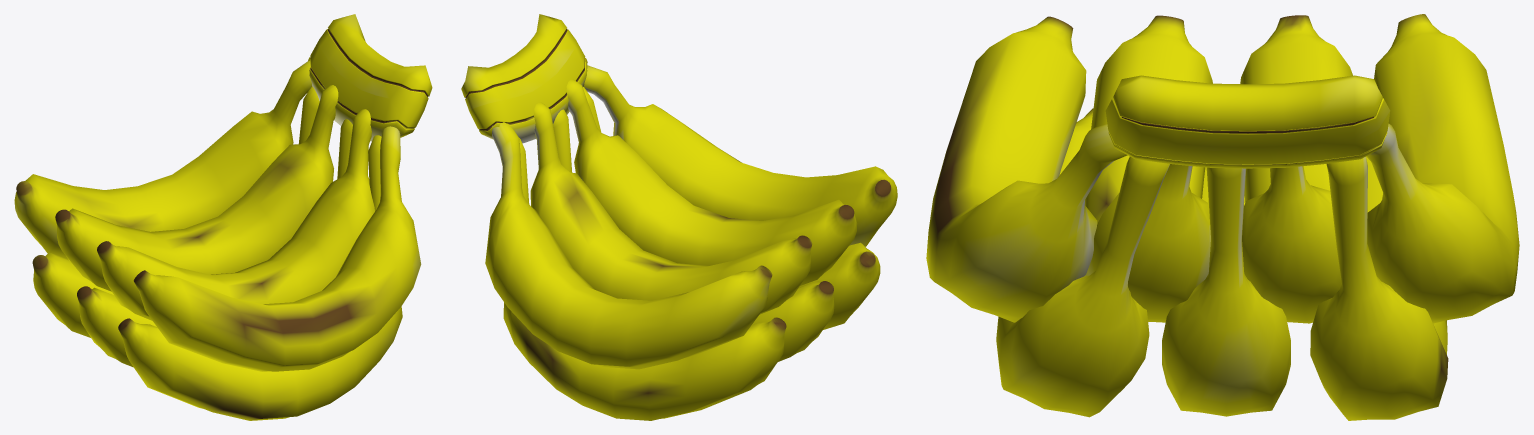
Rendered from Fruit-Banana-bunch.fbx.
The picture shows the model from 3 angles, left to right: view 1: azimuth 30°, elevation 25°; view 2: azimuth 150°, elevation 25°; view 3: azimuth 270°, elevation 25°; orthographic projection. The views are drawn at different scales.
Visible parts, largest first — view 1: Fruit-Banana-bunch; view 2: Fruit-Banana-bunch; view 3: Fruit-Banana-bunch.
Boxes of the visible parts, box(x1,y1,x2,y2) form: Fruit-Banana-bunch: box(14, 14, 432, 420); Fruit-Banana-bunch: box(461, 14, 897, 420); Fruit-Banana-bunch: box(926, 14, 1519, 420).
Size of the model in its own units: 949 by 830 by 1000.
